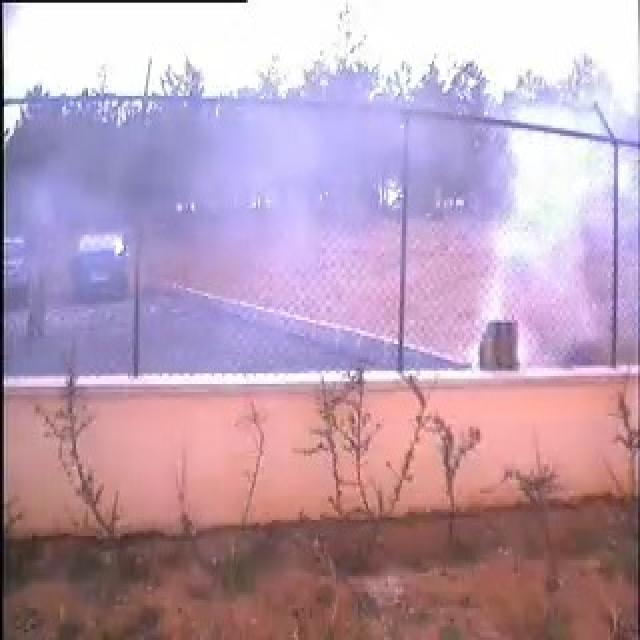Smoke: (440, 102, 620, 367)
